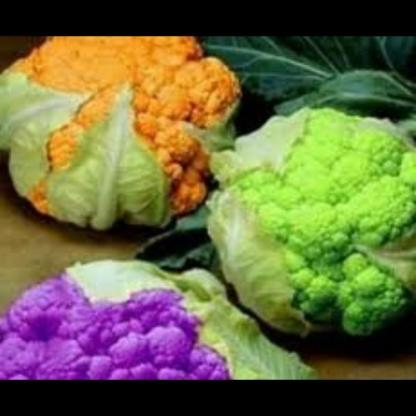cayliflower: (212, 100, 416, 364), (1, 36, 254, 245), (1, 258, 273, 378)
